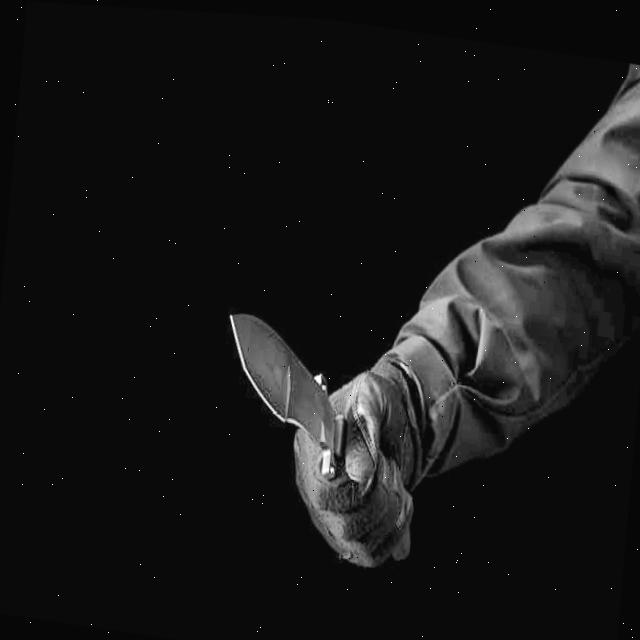pisau: (201, 280, 488, 599)
